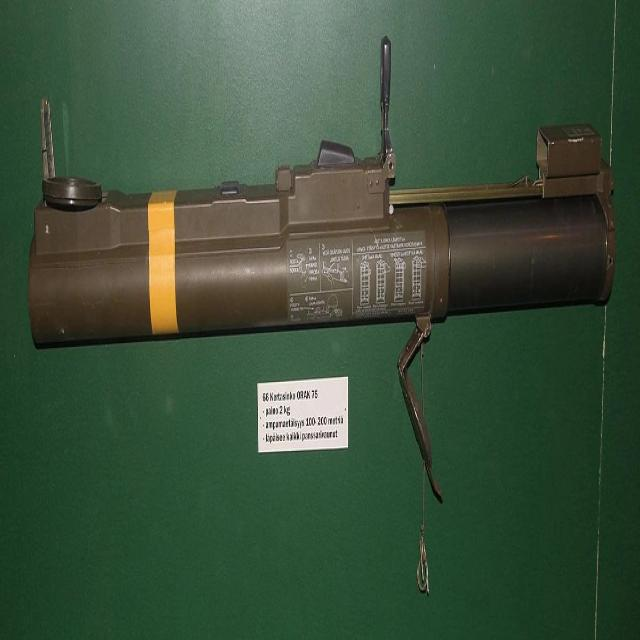bazooka: (30, 34, 622, 341)
